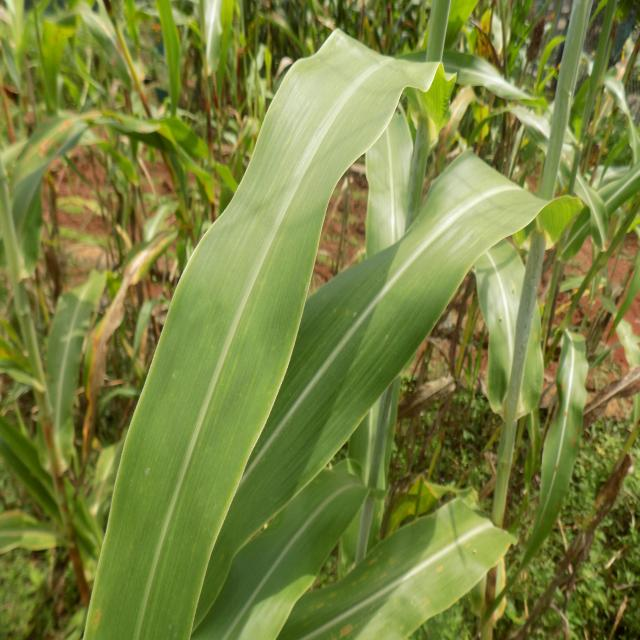millet_healthy: (73, 9, 456, 634), (84, 29, 439, 639), (200, 150, 547, 605), (279, 499, 515, 640), (192, 463, 368, 640), (484, 103, 637, 276), (524, 327, 584, 580), (42, 246, 92, 495)
millet_rust: (76, 218, 185, 472)
